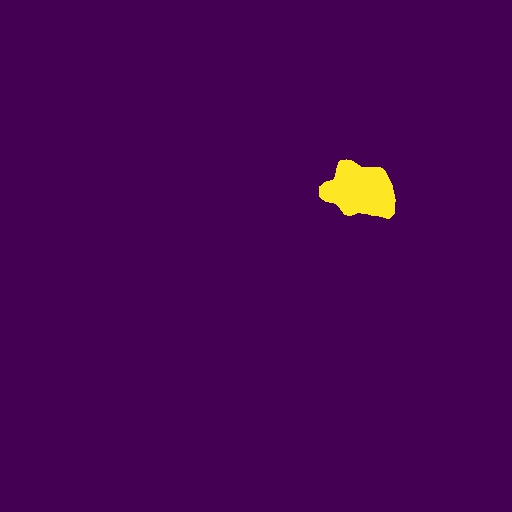Gliomia_tumour: (319, 159, 396, 219)
